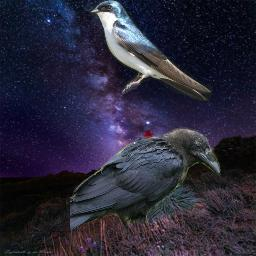Crow: (70, 127, 221, 232)
Swallow: (90, 0, 212, 101)
